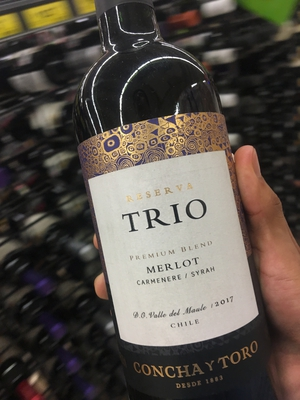trio merlot: (75, 6, 271, 398)
